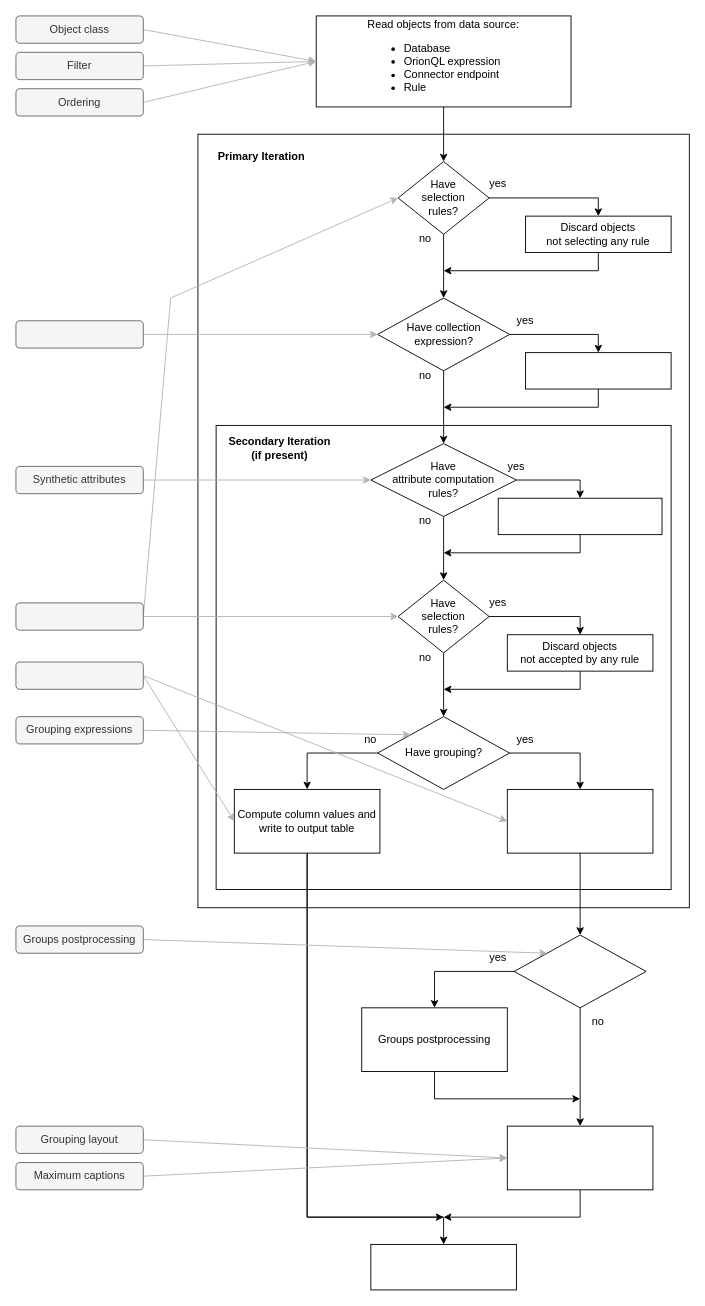
The diagram is 705 pixels wide and 1306 high, and some of its shapes have lost their labels. Each missing label, with the centre of its shape:
"Add object to grouping" goes at [579,821].
"Collection expression" goes at [79,334].
"Compute secondary objects" goes at [598,370].
"Compute synthetic attributes" goes at [579,516].
"Format grouping result" goes at [579,1157].
"Have groups postprocessing?" goes at [579,971].
"Output" goes at [79,675].
"Return output" goes at [443,1267].
"Selection rules" goes at [79,616].
